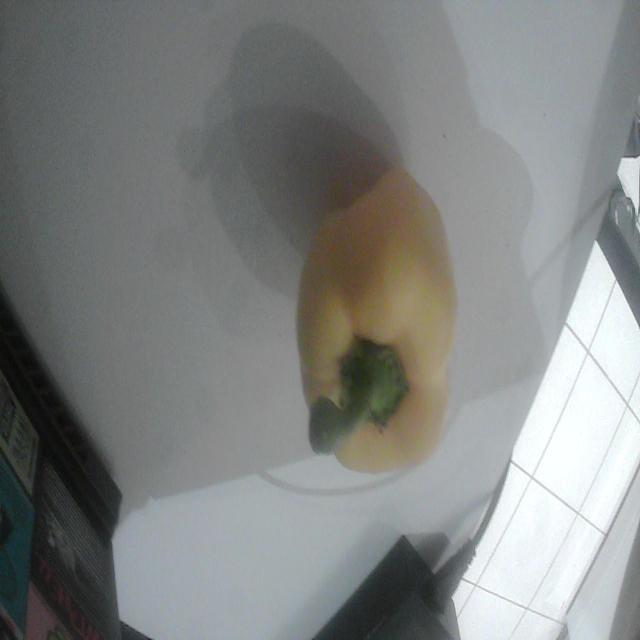Bell Pepper: (297, 168, 456, 473)
